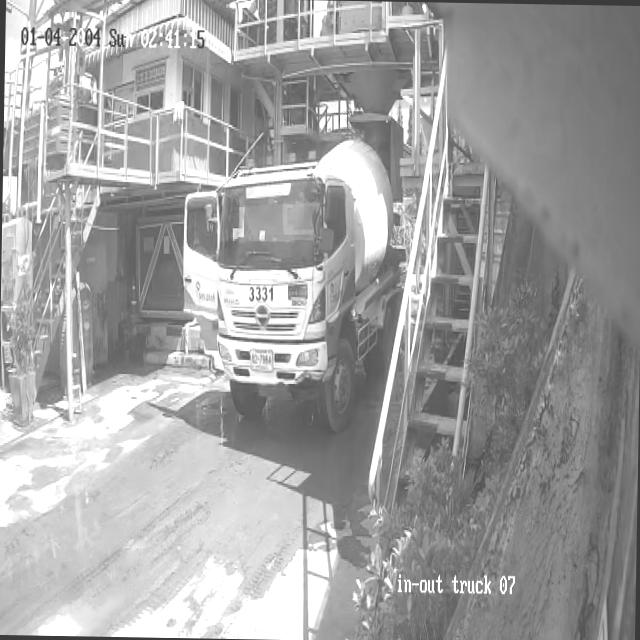cement_mixer_truck: (183, 137, 406, 431)
